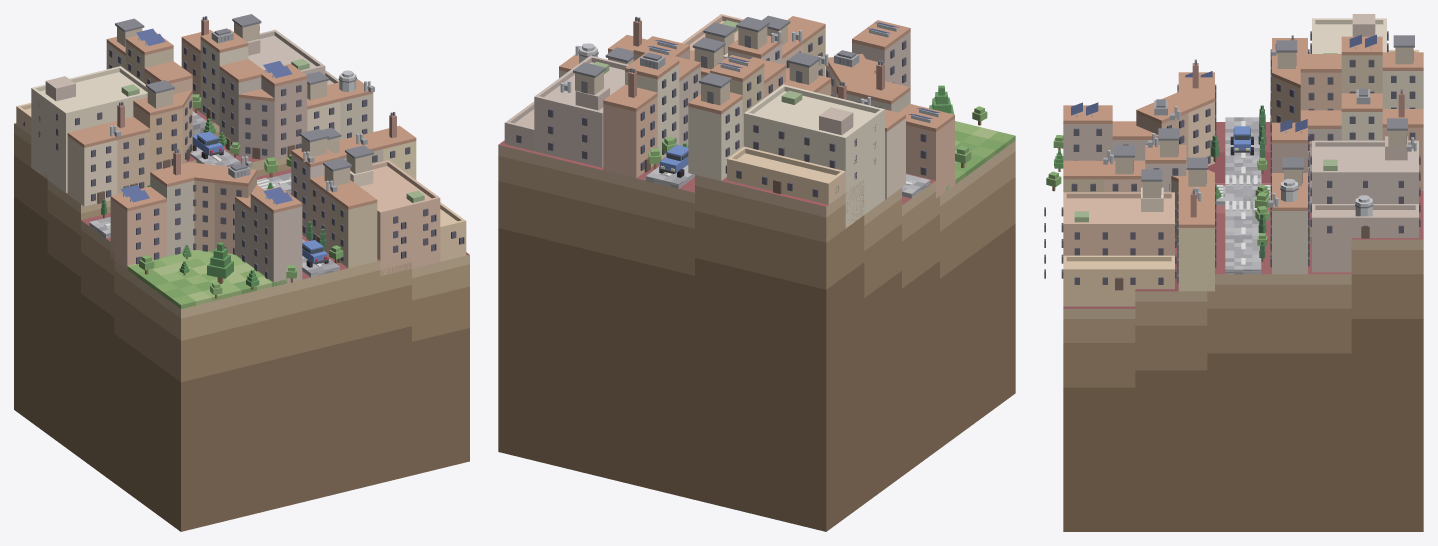
The model's file is block_16_permeable_20.glb.
The picture shows the model from 3 angles, left to right: view 1: azimuth 30°, elevation 25°; view 2: azimuth 150°, elevation 25°; view 3: azimuth 270°, elevation 25°; orthographic projection. The views are drawn at different scales.
Visible parts, largest first — view 1: Patch_MidRight_b18_PP, Cerda_MidRight_b18_PP, Insets_MidRight_b18_PP, CerdaRoofProps_MidRight_b18_PP, Green_MidRight_b18_PP, Roads_MidRight_b18_PP, Asset_Tree_Pine.005_PP, Asset_Car.032_PP, Asset_Car.035_PP; view 2: Patch_MidRight_b18_PP, Cerda_MidRight_b18_PP, Insets_MidRight_b18_PP, CerdaRoofProps_MidRight_b18_PP, Green_MidRight_b18_PP, Roads_MidRight_b18_PP, Asset_Car.033_PP; view 3: Patch_MidRight_b18_PP, Cerda_MidRight_b18_PP, Insets_MidRight_b18_PP, CerdaRoofProps_MidRight_b18_PP, Roads_MidRight_b18_PP, Zebra_MidRight_b18_PP, Asset_Car.034_PP.
Boxes of the visible parts, bbox=[...] form: Patch_MidRight_b18_PP: bbox=[14, 108, 469, 531]; Cerda_MidRight_b18_PP: bbox=[67, 29, 416, 285]; Insets_MidRight_b18_PP: bbox=[16, 29, 466, 276]; CerdaRoofProps_MidRight_b18_PP: bbox=[110, 14, 396, 204]; Green_MidRight_b18_PP: bbox=[127, 250, 287, 308]; Roads_MidRight_b18_PP: bbox=[89, 111, 339, 277]; Asset_Tree_Pine.005_PP: bbox=[207, 242, 233, 283]; Asset_Car.032_PP: bbox=[192, 131, 223, 159]; Asset_Car.035_PP: bbox=[302, 240, 328, 267]; Patch_MidRight_b18_PP: bbox=[498, 140, 1015, 531]; Cerda_MidRight_b18_PP: bbox=[559, 16, 954, 198]; Insets_MidRight_b18_PP: bbox=[504, 14, 884, 228]; CerdaRoofProps_MidRight_b18_PP: bbox=[560, 15, 940, 122]; Green_MidRight_b18_PP: bbox=[946, 121, 1015, 190]; Roads_MidRight_b18_PP: bbox=[646, 165, 930, 198]; Asset_Car.033_PP: bbox=[659, 145, 688, 177]; Patch_MidRight_b18_PP: bbox=[1063, 122, 1423, 531]; Cerda_MidRight_b18_PP: bbox=[1063, 36, 1423, 291]; Insets_MidRight_b18_PP: bbox=[1044, 14, 1420, 306]; CerdaRoofProps_MidRight_b18_PP: bbox=[1071, 34, 1416, 217]; Roads_MidRight_b18_PP: bbox=[1216, 117, 1270, 274]; Zebra_MidRight_b18_PP: bbox=[1216, 175, 1270, 210]; Asset_Car.034_PP: bbox=[1230, 126, 1253, 155].
Bounding box in the file's own units: 9.5 × 11.58 × 10.
